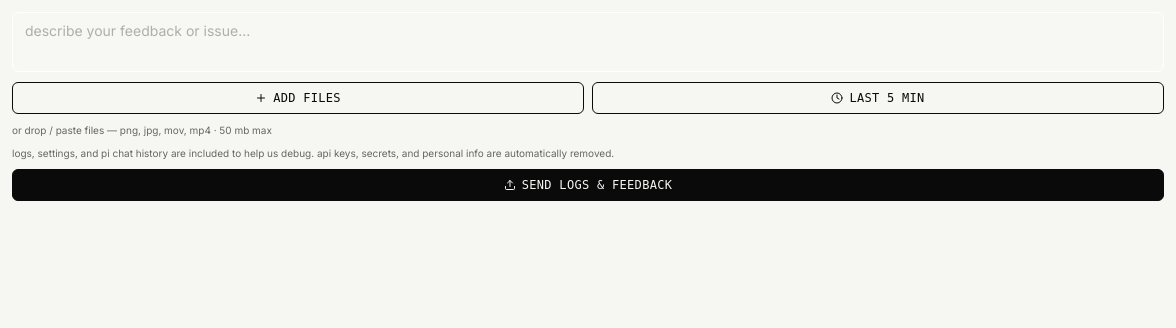
Scenario: ShareLogsButton attachments › exports the last five minutes from frame data without audio
The image size is (1176, 328).
Click the button "last 5 min" at (878, 98), box [592, 82, 1164, 114]
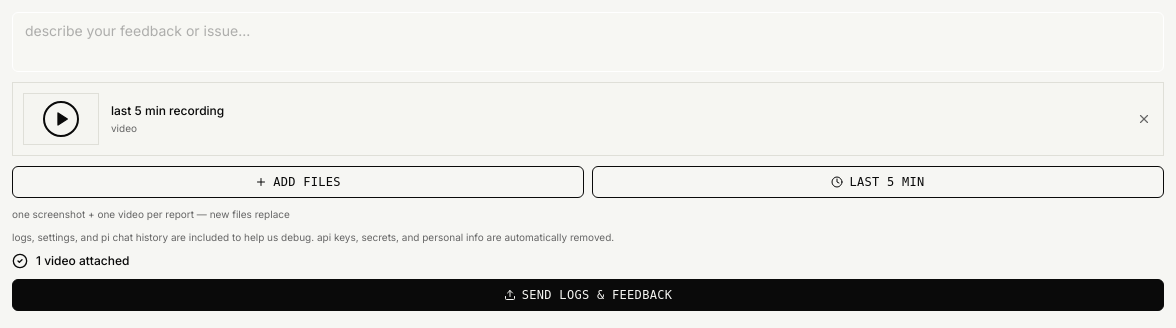
Check: the element with test id "video-attachment" shows "last 5 min recording", box [111, 102, 224, 118]
